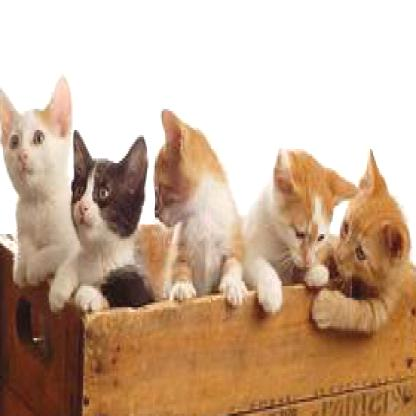cat: (310, 144, 412, 338), (153, 104, 248, 305), (49, 130, 152, 314), (247, 146, 356, 316), (2, 75, 74, 290)
